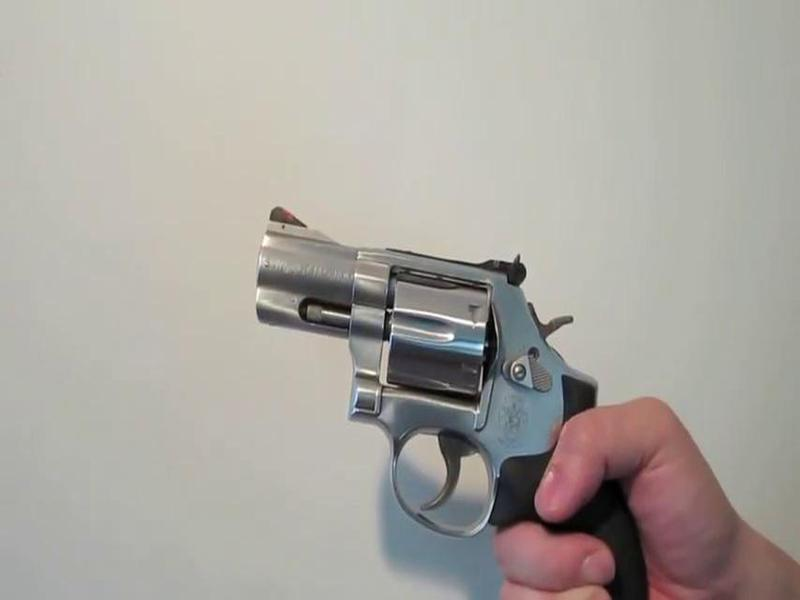Revolver: (240, 189, 660, 600)
